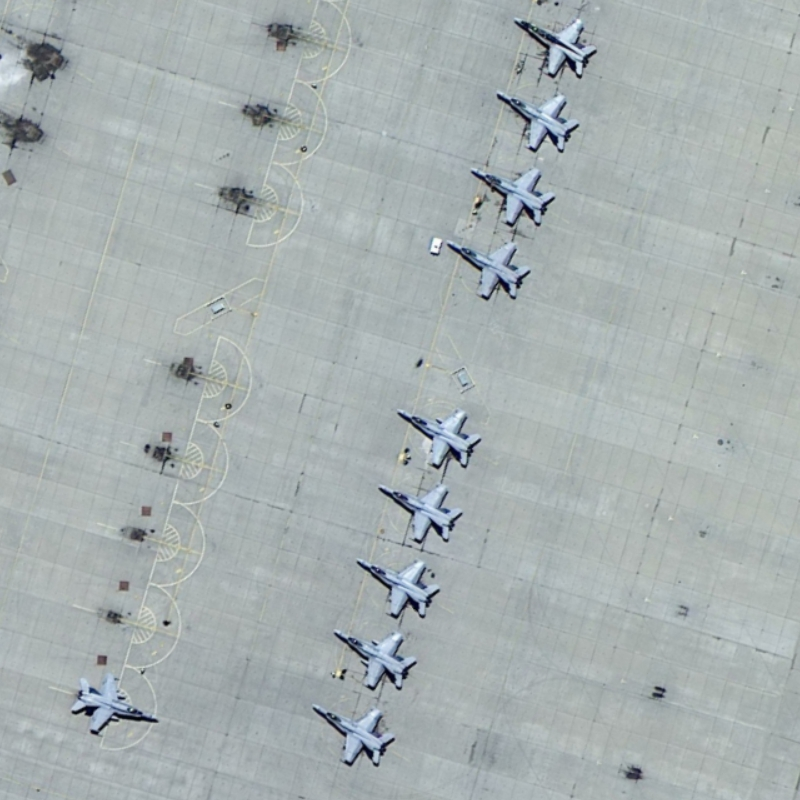A16: (350, 551, 444, 623), (373, 477, 465, 549), (440, 235, 534, 305), (307, 699, 399, 770), (330, 624, 421, 695), (68, 669, 160, 739), (393, 404, 486, 473), (512, 12, 601, 82), (493, 88, 582, 155), (467, 163, 557, 228)
